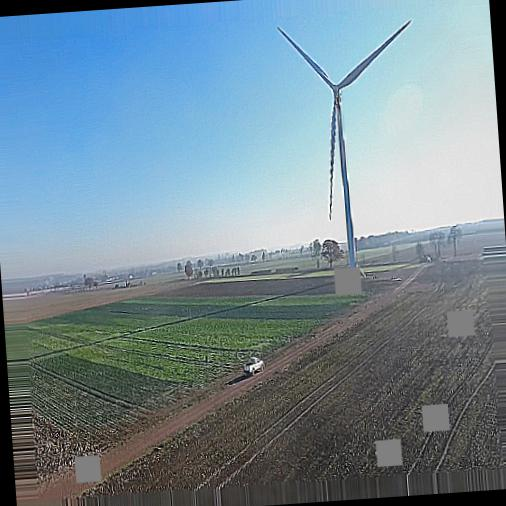wind turbine: (275, 22, 413, 270)
